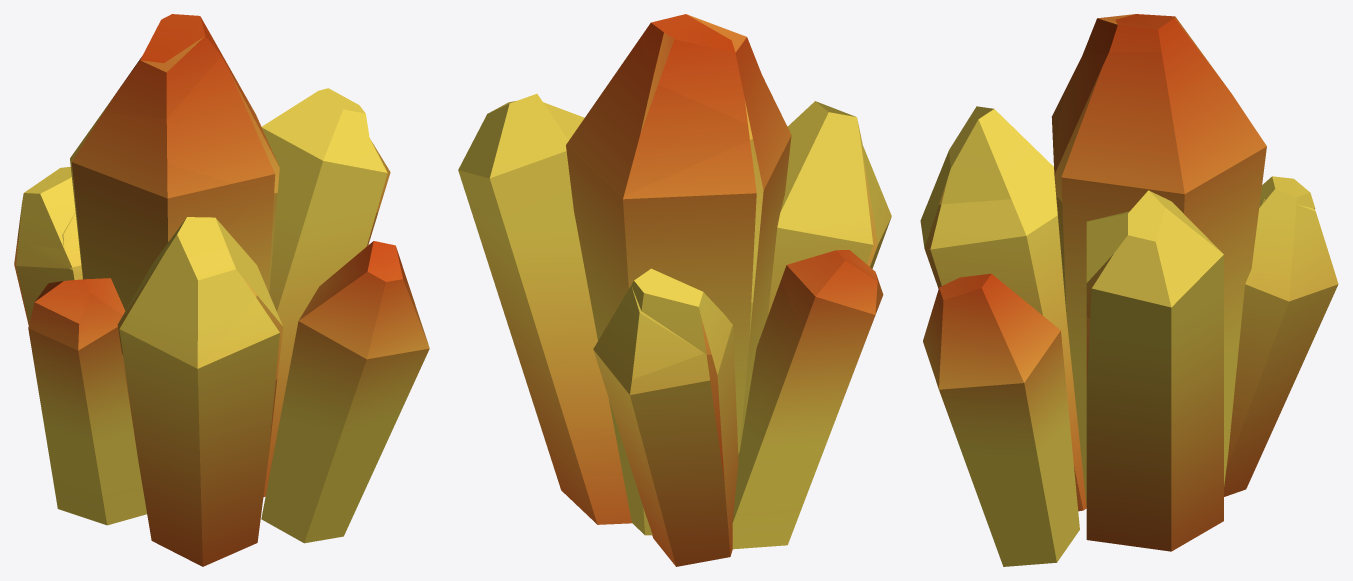
File: Gold_stone.fbx
3 views of the same model, side by side, from view 1: azimuth 30°, elevation 25°; view 2: azimuth 150°, elevation 25°; view 3: azimuth 270°, elevation 25° (orthographic). The views are drawn at different scales.
Visible parts, largest first — view 1: Gold_stone; view 2: Gold_stone; view 3: Gold_stone.
Boxes of the visible parts, box(x1,y1,x2,y2) form: Gold_stone: box(14, 14, 429, 566); Gold_stone: box(458, 14, 891, 566); Gold_stone: box(920, 14, 1338, 566).
Bounding box in the file's own units: 1.28 × 1.2 × 1.6.
